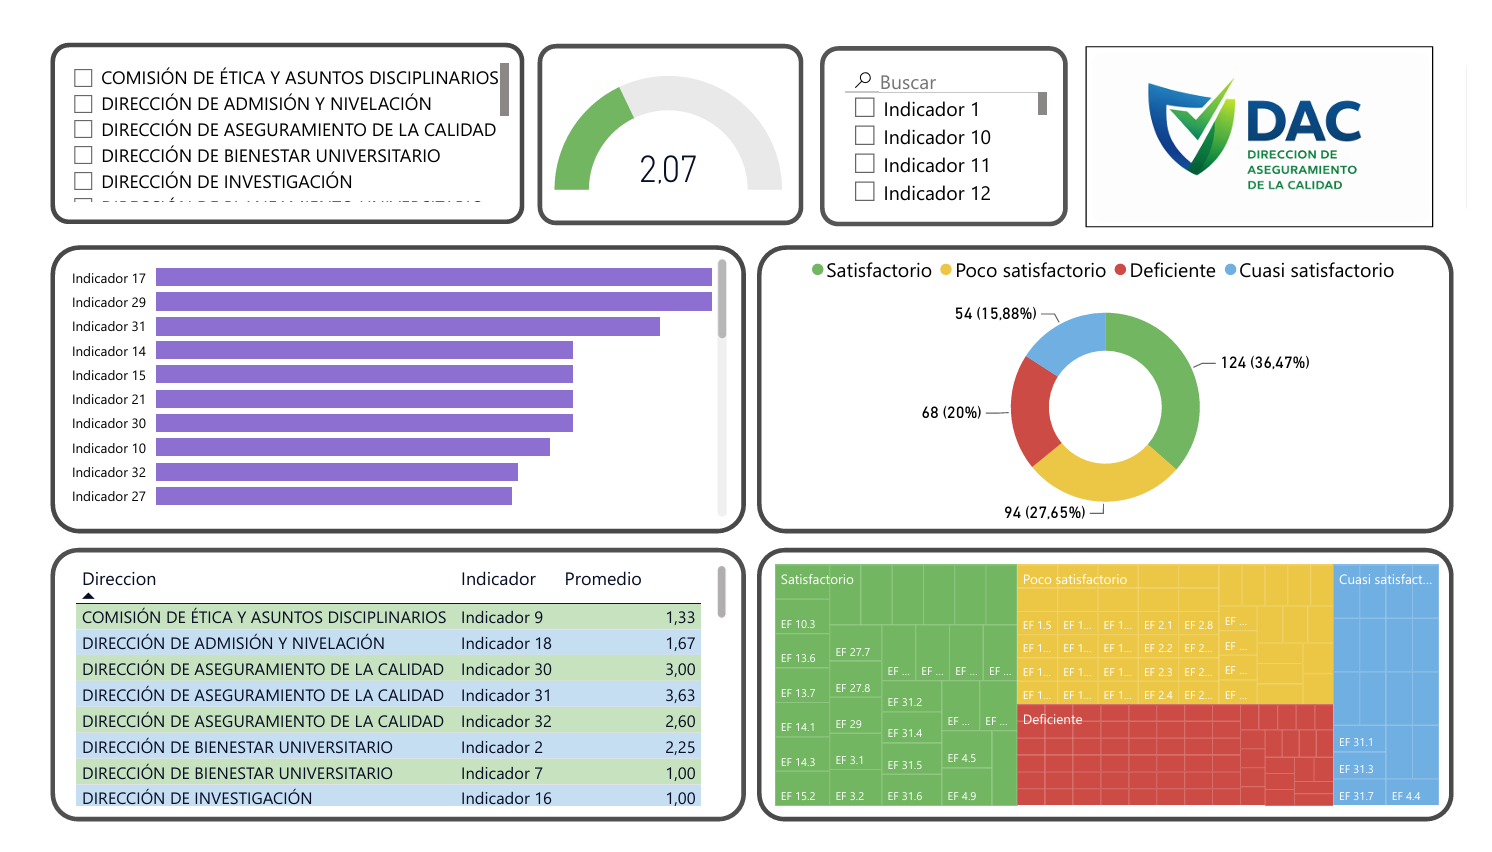

The page's visual inventory and layout, read from the dashboard file:
{"tool":"powerbi","page":{"name":"Informe matriz","canvas":[1280,720],"ordinal":0},"visuals":[{"type":"shape","box":[20.6,15.1,421.3,160.5],"z":0},{"type":"shape","box":[20.6,194.9,618.9,256.6],"z":1000},{"type":"shape","box":[649.1,194.9,618.9,256.6],"z":2000},{"type":"shape","box":[20.6,463.8,618.9,242.9],"z":3000},{"type":"donutChart","fields":{"Category":["Matriz (3).Calificacion"],"Y":["Sum(Matriz (3).Valor Numerico)"]},"box":[649.3,194.4,618.8,256.8],"z":4000},{"type":"barChart","fields":{"Category":["Matriz (3).Indicador"],"Y":["Avg(Matriz (3).Valor Numerico)"]},"box":[29.3,194.4,598,247],"z":5000},{"type":"shape","box":[454.2,16.5,236,160.5],"z":6000},{"type":"shape","box":[705.3,17.8,219.6,160.5],"z":7000},{"type":"tableEx","fields":{"Values":["Matriz (3).Direccion","Matriz (3).Indicador","Avg(Matriz (3).Valor Numerico)"]},"box":[37.9,474.5,589.4,223.8],"z":8000},{"type":"shape","box":[649.1,463.8,618.9,242.9],"z":9000},{"type":"image","box":[941,18.1,308.8,160.5],"z":10000},{"type":"slicer","fields":{"Values":["Matriz (3).Direccion"]},"box":[29.3,28.1,404.8,133.3],"z":11000},{"type":"gauge","fields":{"Y":["Avg(Matriz (3).Valor Numerico)"]},"box":[464.5,27.7,211.1,133.9],"z":12000},{"type":"slicer","fields":{"Values":["Matriz (3).Indicador"]},"box":[722.7,32.6,189.4,129.1],"z":13000},{"type":"treemap","fields":{"Group":["Matriz (3).Calificacion"],"Details":["Matriz (3).Elemento Fundamental"],"Values":["Avg(Matriz (3).Valor Numerico)"]},"box":[660.3,474.5,599.2,223.8],"z":14000}]}

Visuals, with their boxes in screenshot pixels (x1, y1, x2, y2), scaled from the page's 1280x720 canvas onto the 1492x852 screenshot:
shape: box=[24, 18, 515, 208]
shape: box=[24, 231, 745, 534]
shape: box=[757, 231, 1478, 534]
shape: box=[24, 549, 745, 836]
donutChart - Matriz (3).Calificacion x Sum(Matriz (3).Valor Numerico): box=[757, 230, 1478, 534]
barChart - Matriz (3).Indicador x Avg(Matriz (3).Valor Numerico): box=[34, 230, 731, 522]
shape: box=[529, 20, 805, 209]
shape: box=[822, 21, 1078, 211]
tableEx - Matriz (3).Direccion x Matriz (3).Indicador: box=[44, 561, 731, 826]
shape: box=[757, 549, 1478, 836]
image: box=[1097, 21, 1457, 211]
slicer - Matriz (3).Direccion: box=[34, 33, 506, 191]
gauge - Avg(Matriz (3).Valor Numerico): box=[541, 33, 787, 191]
slicer - Matriz (3).Indicador: box=[842, 39, 1063, 191]
treemap - Matriz (3).Calificacion x Matriz (3).Elemento Fundamental: box=[770, 561, 1468, 826]
